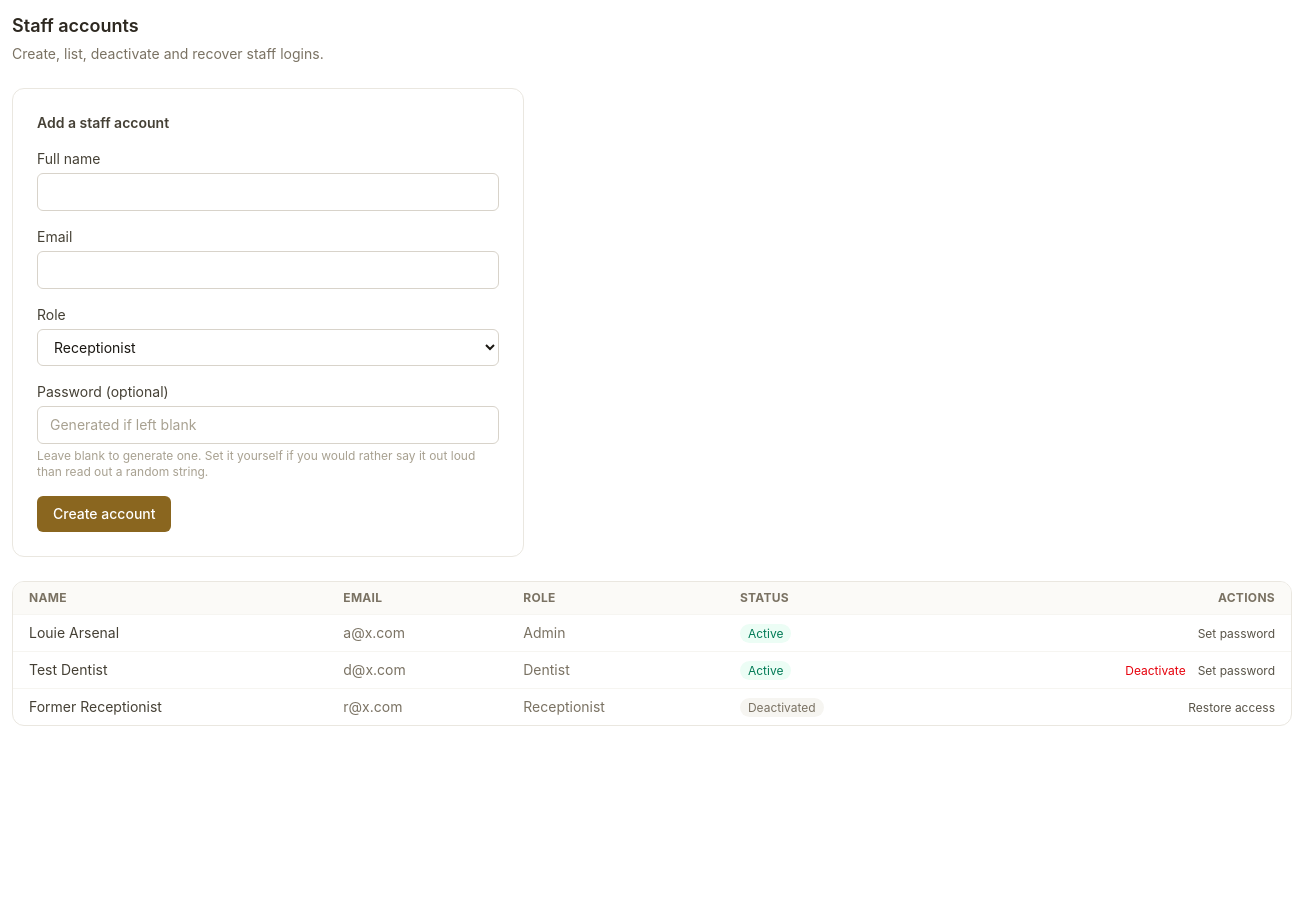
it: StaffManagementPage › surfaces a refusal from the edge function
The image size is (1292, 912).
expect the text "Test Dentist" is shown: met, box [13,652,327,688]
Type "X" into the field labelled "Full name" at (268, 192), box [37,173,499,211]
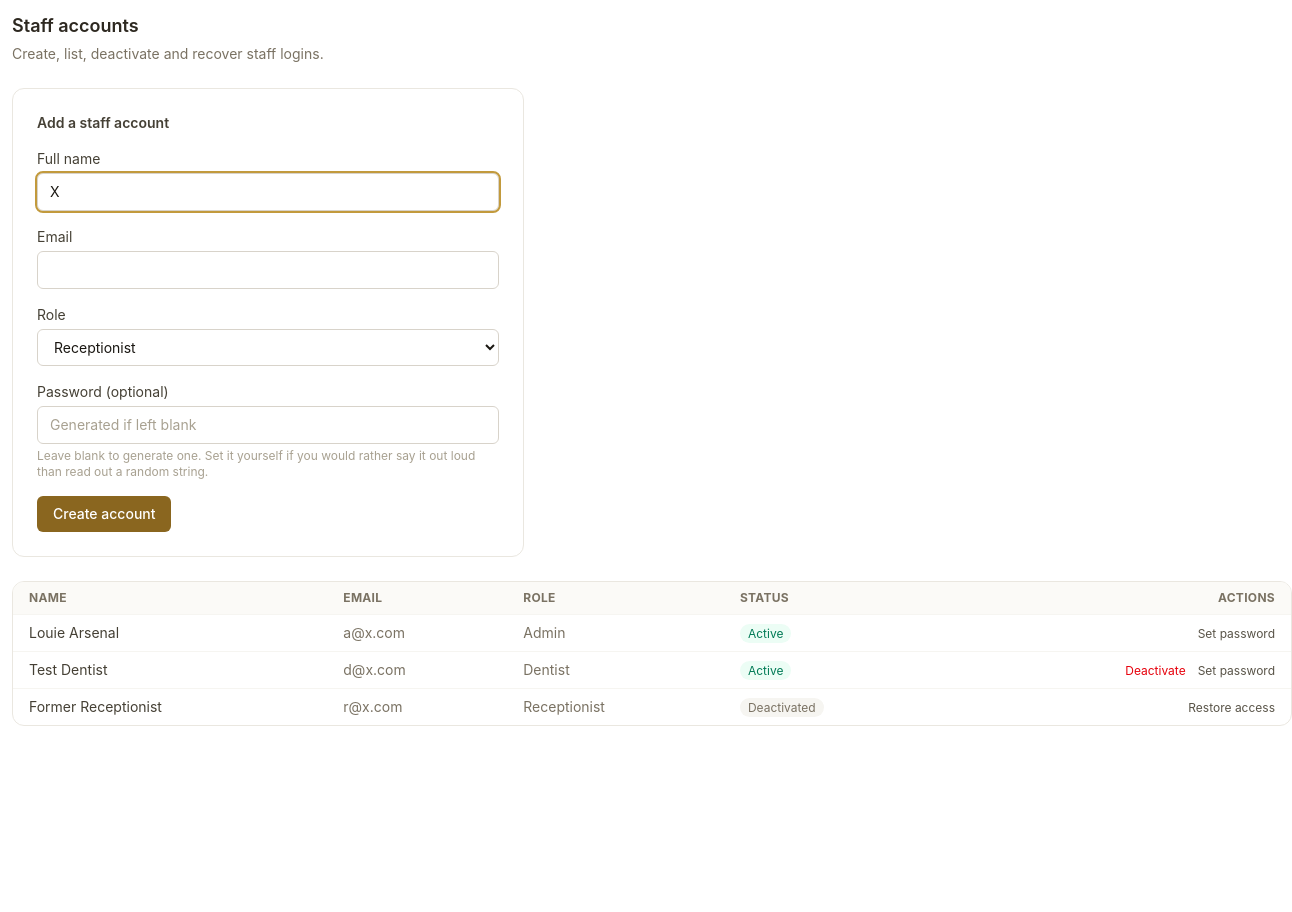
Type "x@x.com" into the field labelled "Email" at (268, 270), box [37,251,499,289]
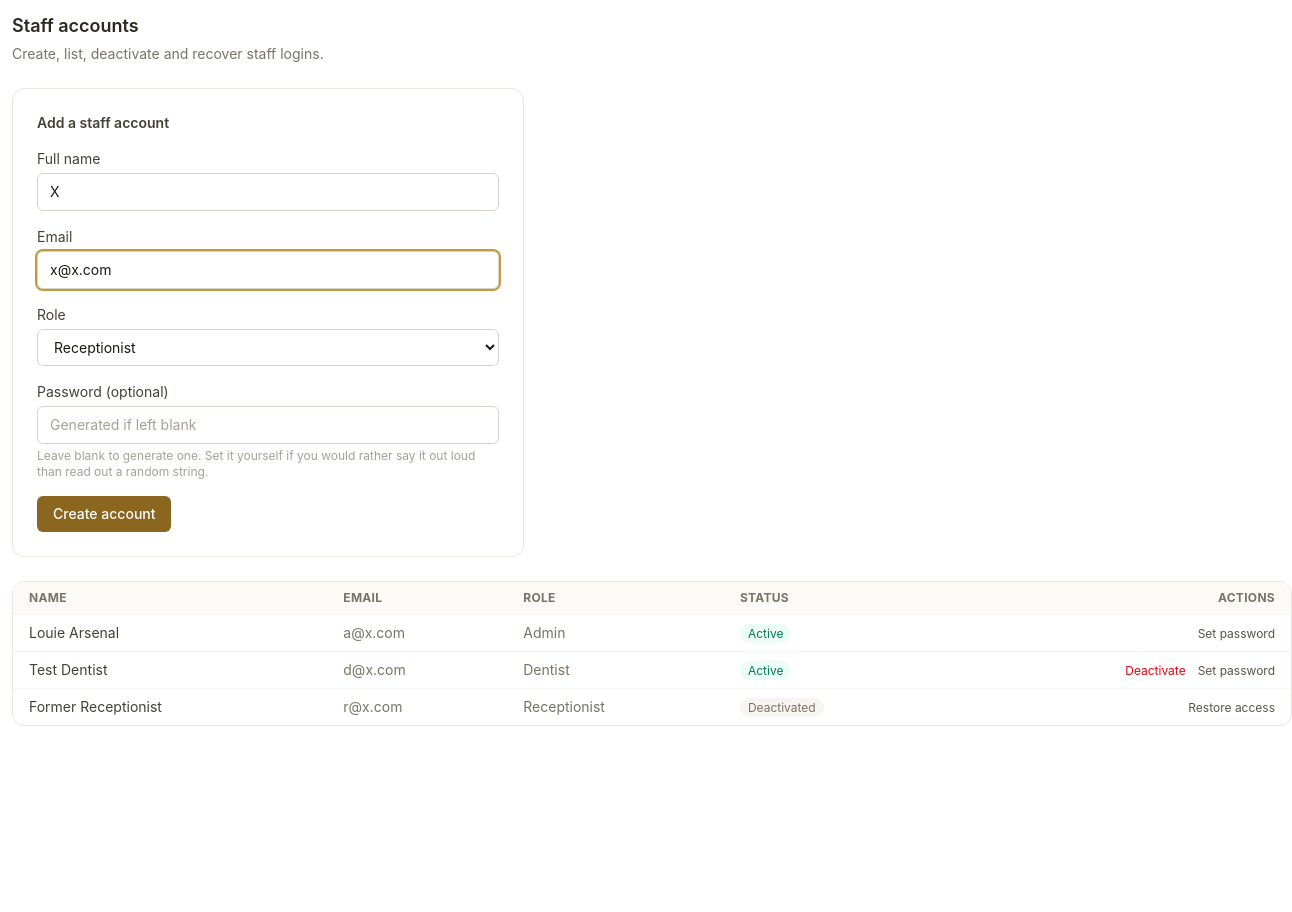
Click the button "Create account" at (104, 514), box [37,496,172,532]
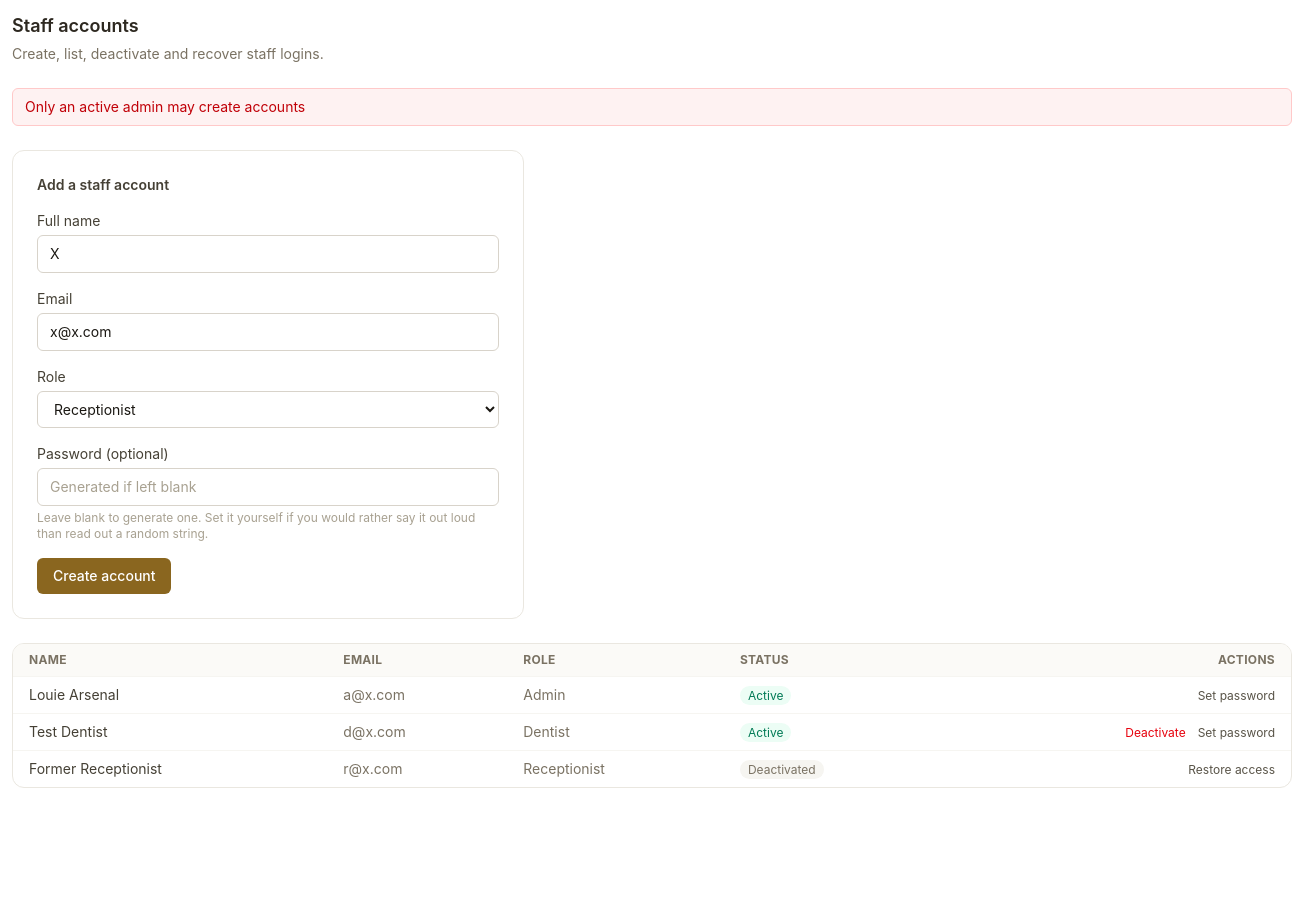
expect the message shows "Only an active admin": met, box [25,98,305,115]
